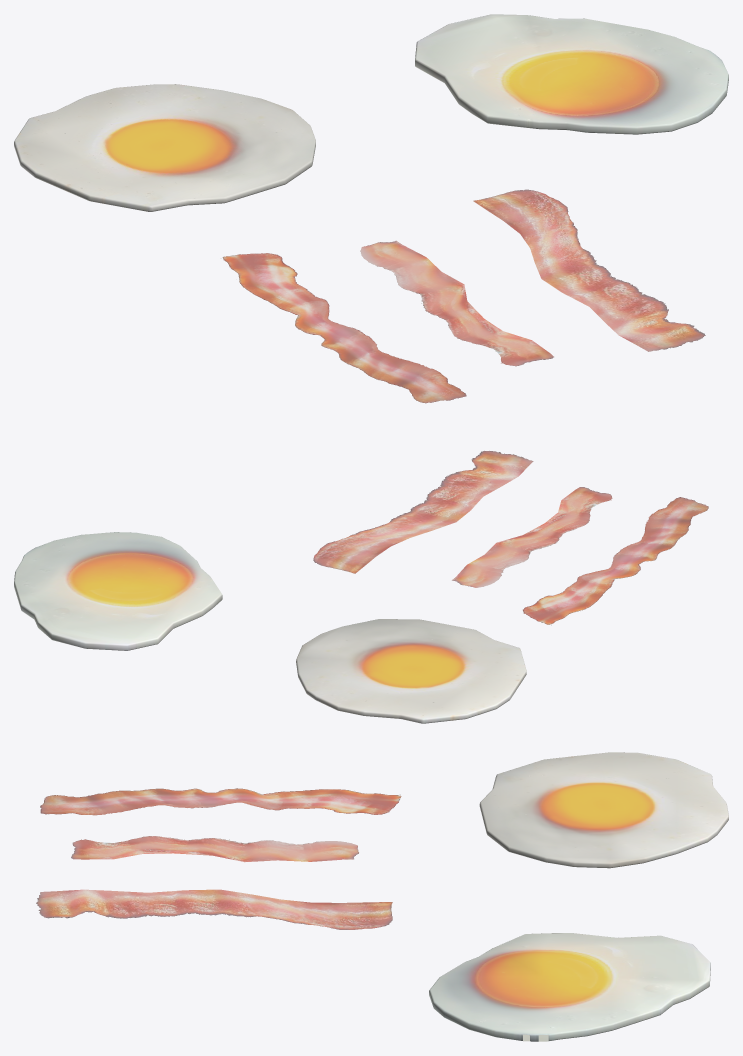
The model's file is EggsAndBacon.fbx.
The picture shows the model from 3 angles, top to bottom: view 1: azimuth 30°, elevation 25°; view 2: azimuth 150°, elevation 25°; view 3: azimuth 270°, elevation 25°; orthographic projection. The views are drawn at different scales.
Visible parts, largest first — view 1: eggsAndBacon_Piece.001, eggsAndBacon_Piece_Piece_Piece, eggsAndBacon_Piece.002, eggsAndBacon_Piece.004, eggsAndBacon_Piece.003; view 2: eggsAndBacon_Piece_Piece_Piece, eggsAndBacon_Piece.001, eggsAndBacon_Piece.002, eggsAndBacon_Piece.004, eggsAndBacon_Piece.003; view 3: eggsAndBacon_Piece.001, eggsAndBacon_Piece_Piece_Piece, eggsAndBacon_Piece.002, eggsAndBacon_Piece.004, eggsAndBacon_Piece.003.
Part boxes in pixels (x1,y1,x2,y2): eggsAndBacon_Piece.001: (415,14,728,134); eggsAndBacon_Piece_Piece_Piece: (14,84,315,211); eggsAndBacon_Piece.002: (473,189,705,351); eggsAndBacon_Piece.004: (222,253,466,403); eggsAndBacon_Piece.003: (360,240,553,366); eggsAndBacon_Piece_Piece_Piece: (296,619,526,723); eggsAndBacon_Piece.001: (14,532,222,650); eggsAndBacon_Piece.002: (313,451,533,573); eggsAndBacon_Piece.004: (523,497,708,625); eggsAndBacon_Piece.003: (452,487,612,587); eggsAndBacon_Piece.001: (429,933,710,1041); eggsAndBacon_Piece_Piece_Piece: (479,752,728,868); eggsAndBacon_Piece.002: (36,889,392,929); eggsAndBacon_Piece.004: (40,788,401,815); eggsAndBacon_Piece.003: (71,836,358,862).
Bounding box in the file's own units: 0.8966 × 0.9789 × 0.0211.
